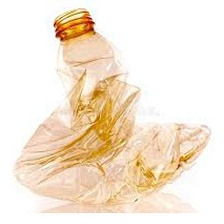bottle: (10, 4, 215, 212)
